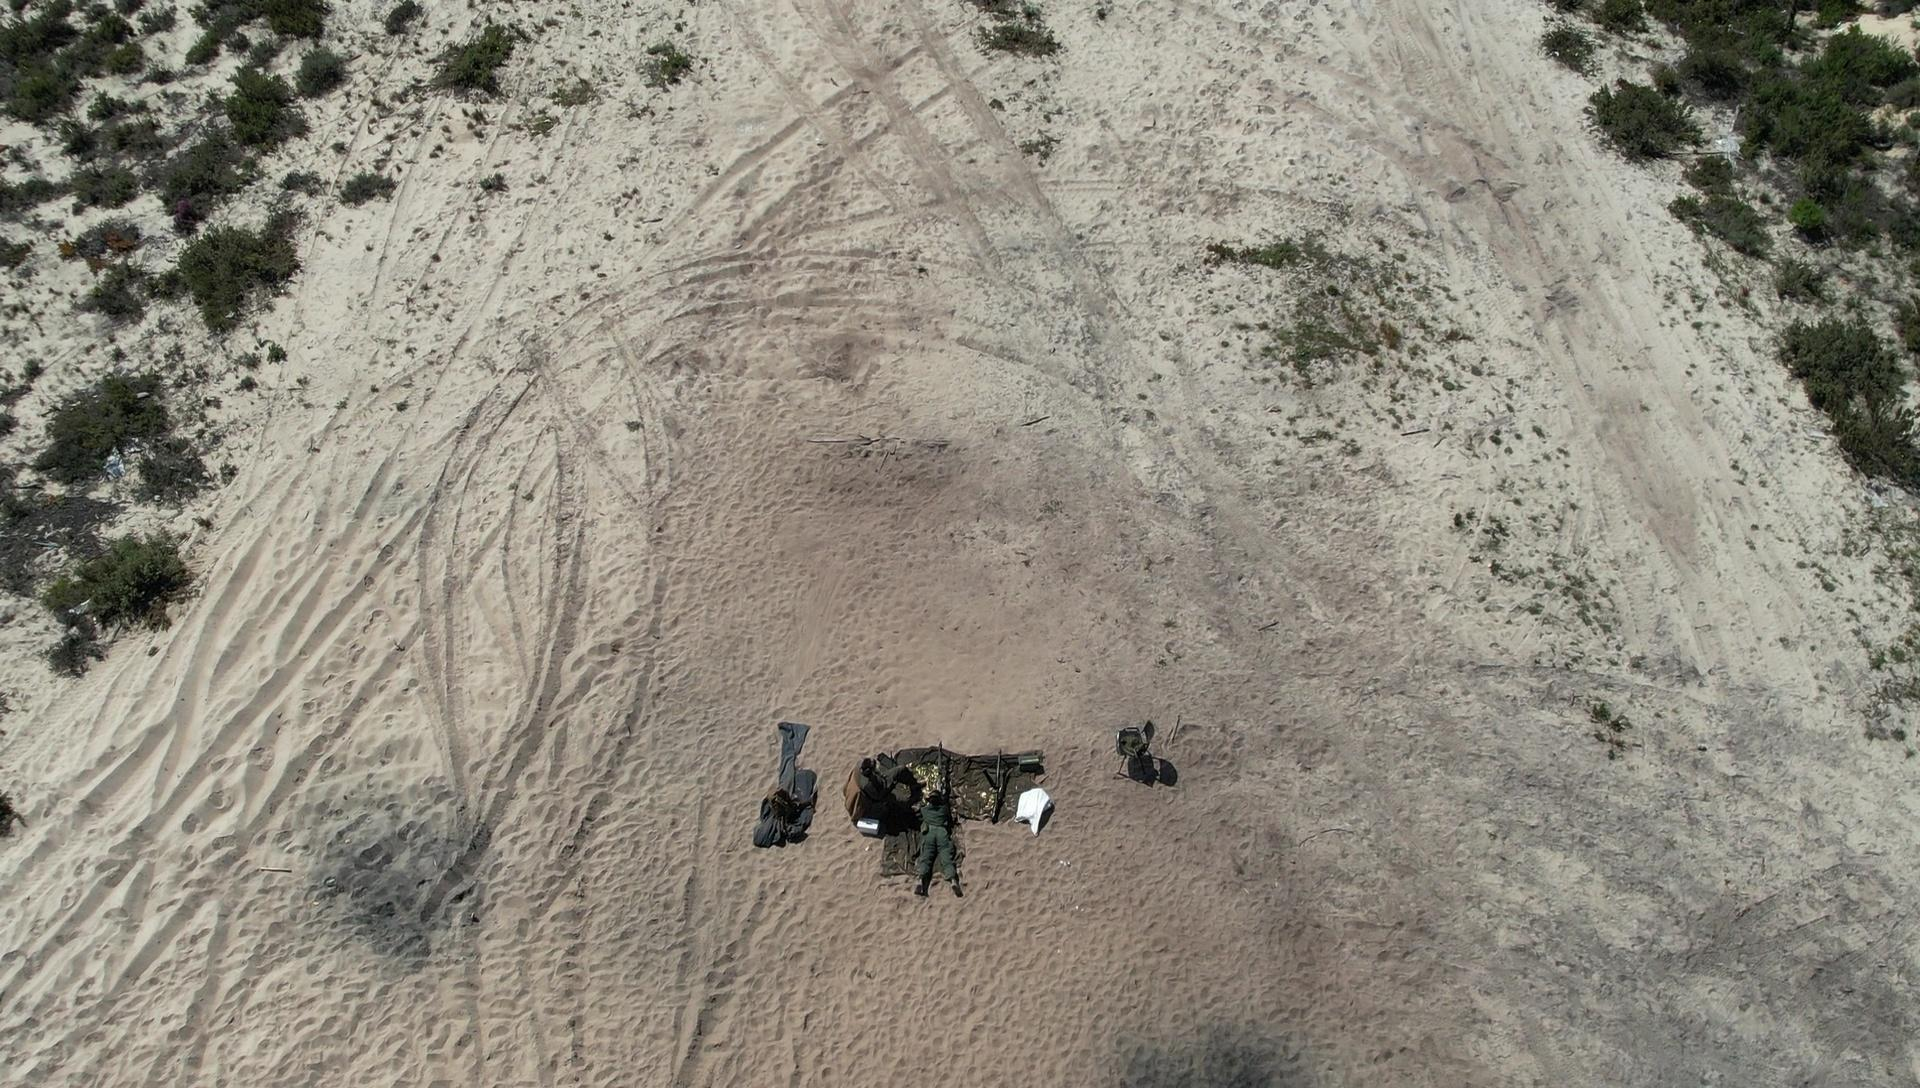Soldier: (914, 768, 964, 902), (849, 758, 902, 824)
